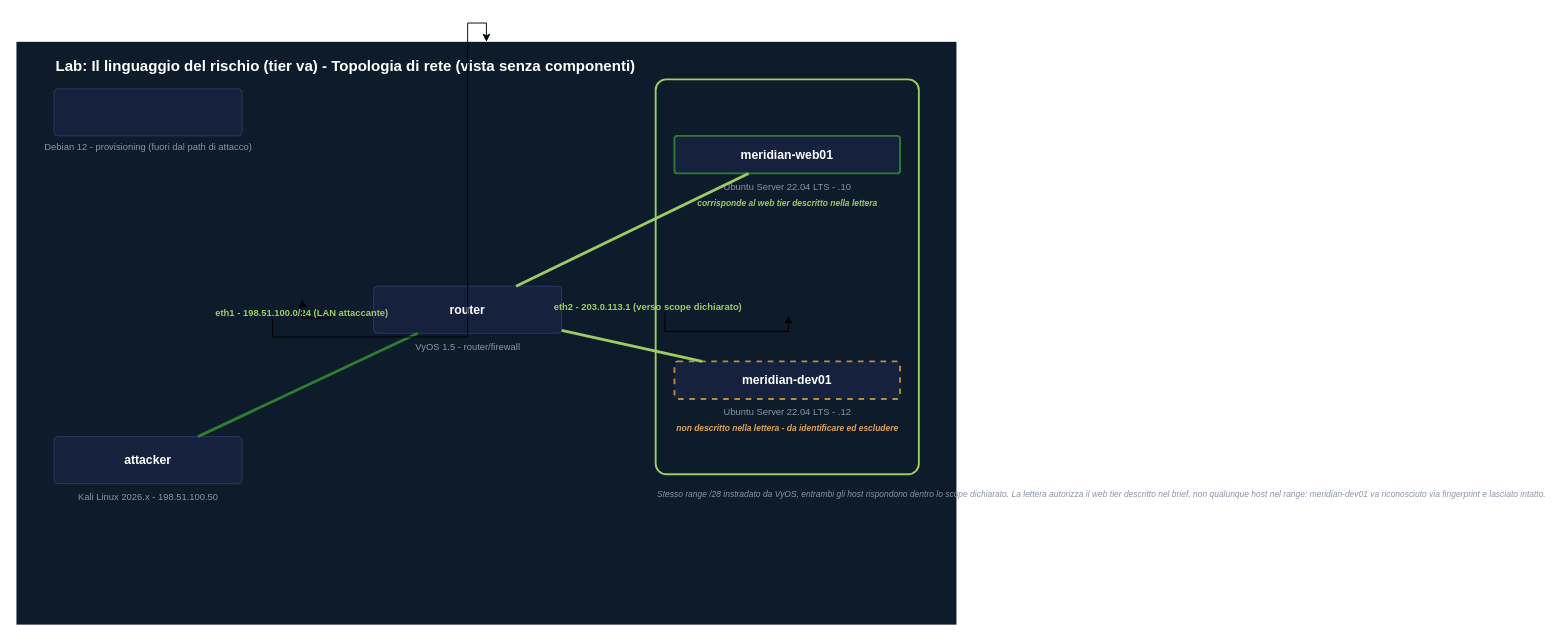
The diagram is 1561 pixels wide and 641 high, and some of its shapes have lost their labels. Each missing label, with the box of its shape:
ansible-control: (53, 88, 242, 136)
SCOPE DICHIARATO - 203.0.113.0/28 (lettera: web tier pubblico): (654, 78, 919, 475)
